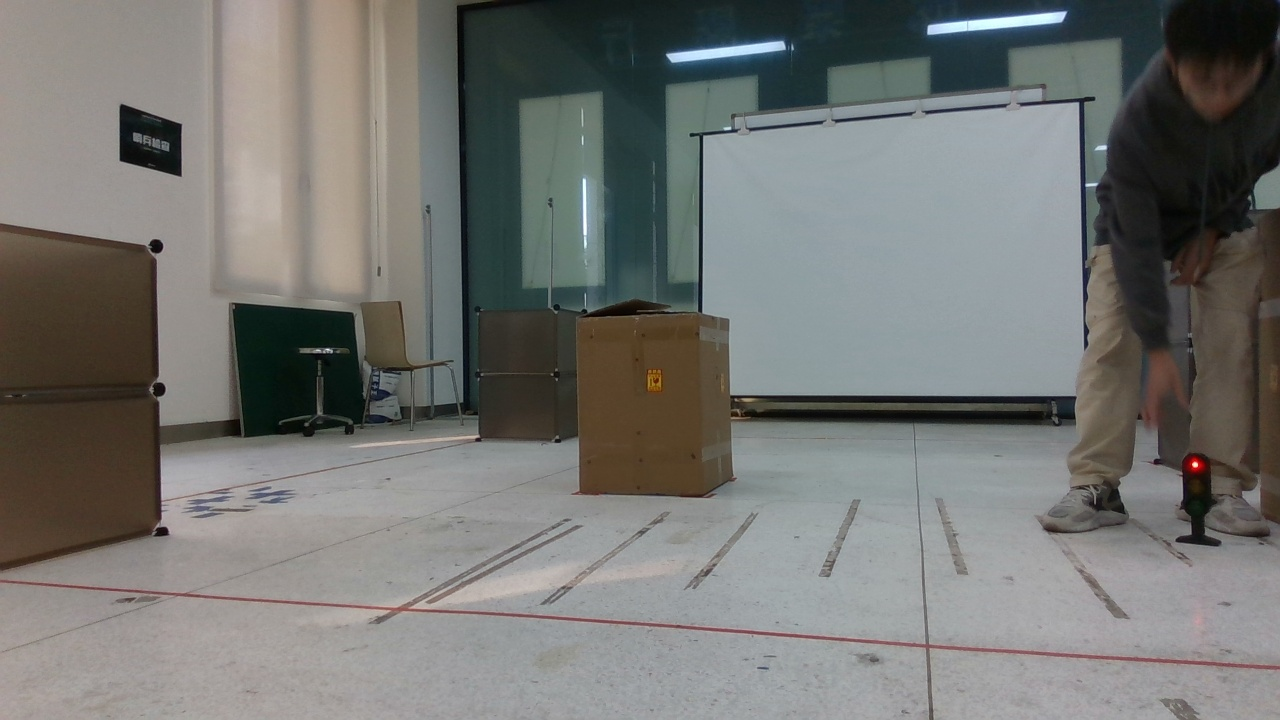red_light: (1173, 440, 1224, 552)
